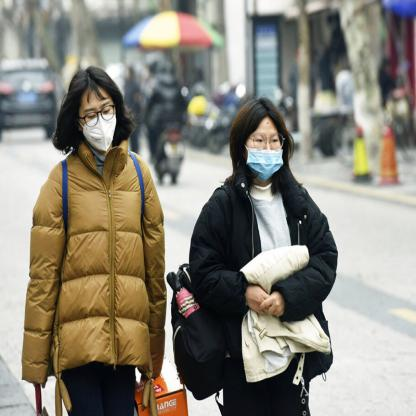Wearing_Mask: (245, 129, 284, 185), (78, 99, 116, 151)
